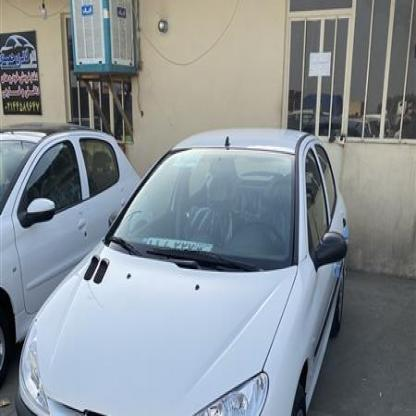Car: (22, 125, 350, 416), (0, 111, 147, 370)
